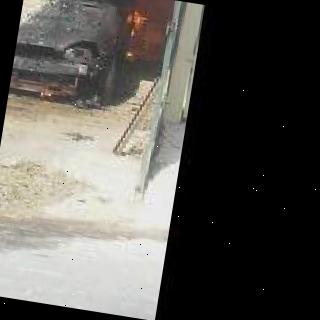fire: (126, 5, 156, 37)
